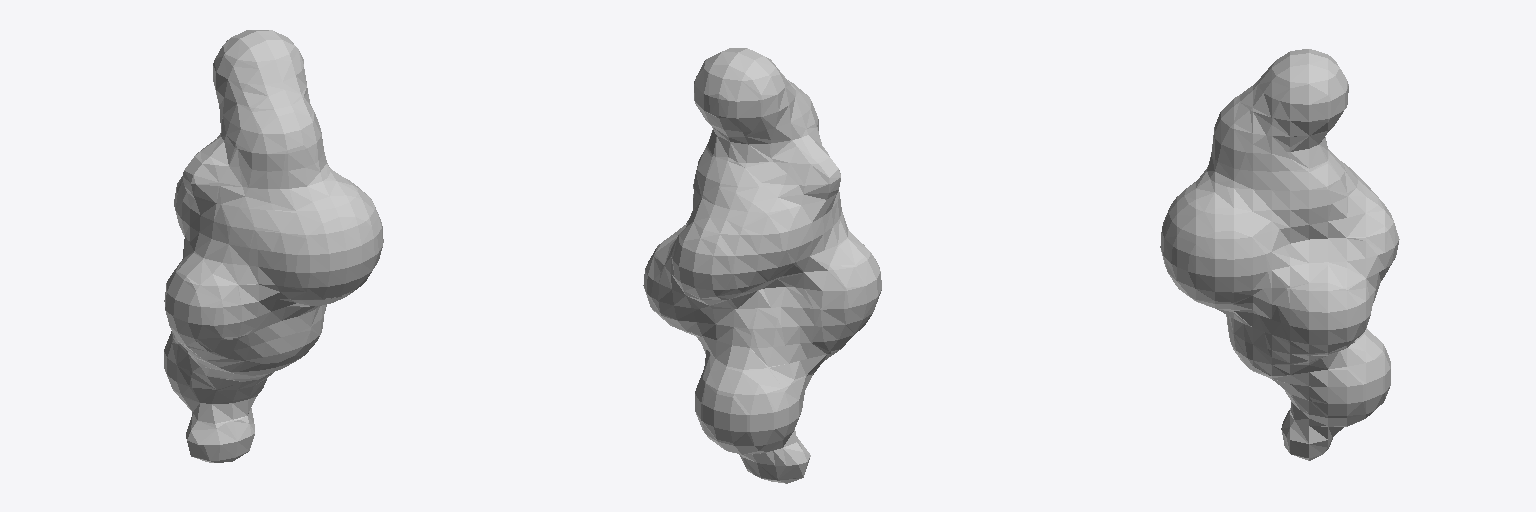
3 renders of one model, left to right at view 1: azimuth 30°, elevation 25°; view 2: azimuth 150°, elevation 25°; view 3: azimuth 270°, elevation 25°, orthographic.
Parts seen in each view (by area): view 1: Mball.015; view 2: Mball.015; view 3: Mball.015.
Boxes of the visible parts, x1=… form: Mball.015: x1=164, y1=30, x2=383, y2=462; Mball.015: x1=643, y1=48, x2=881, y2=483; Mball.015: x1=1160, y1=49, x2=1399, y2=460.
Size of the model in its own units: 4.52 by 9.43 by 4.86.